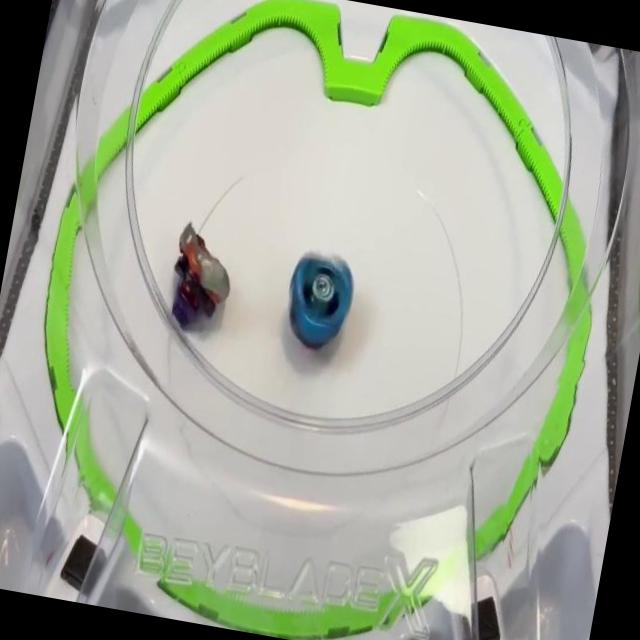Beyblade: (276, 243, 364, 359), (162, 220, 240, 334)
